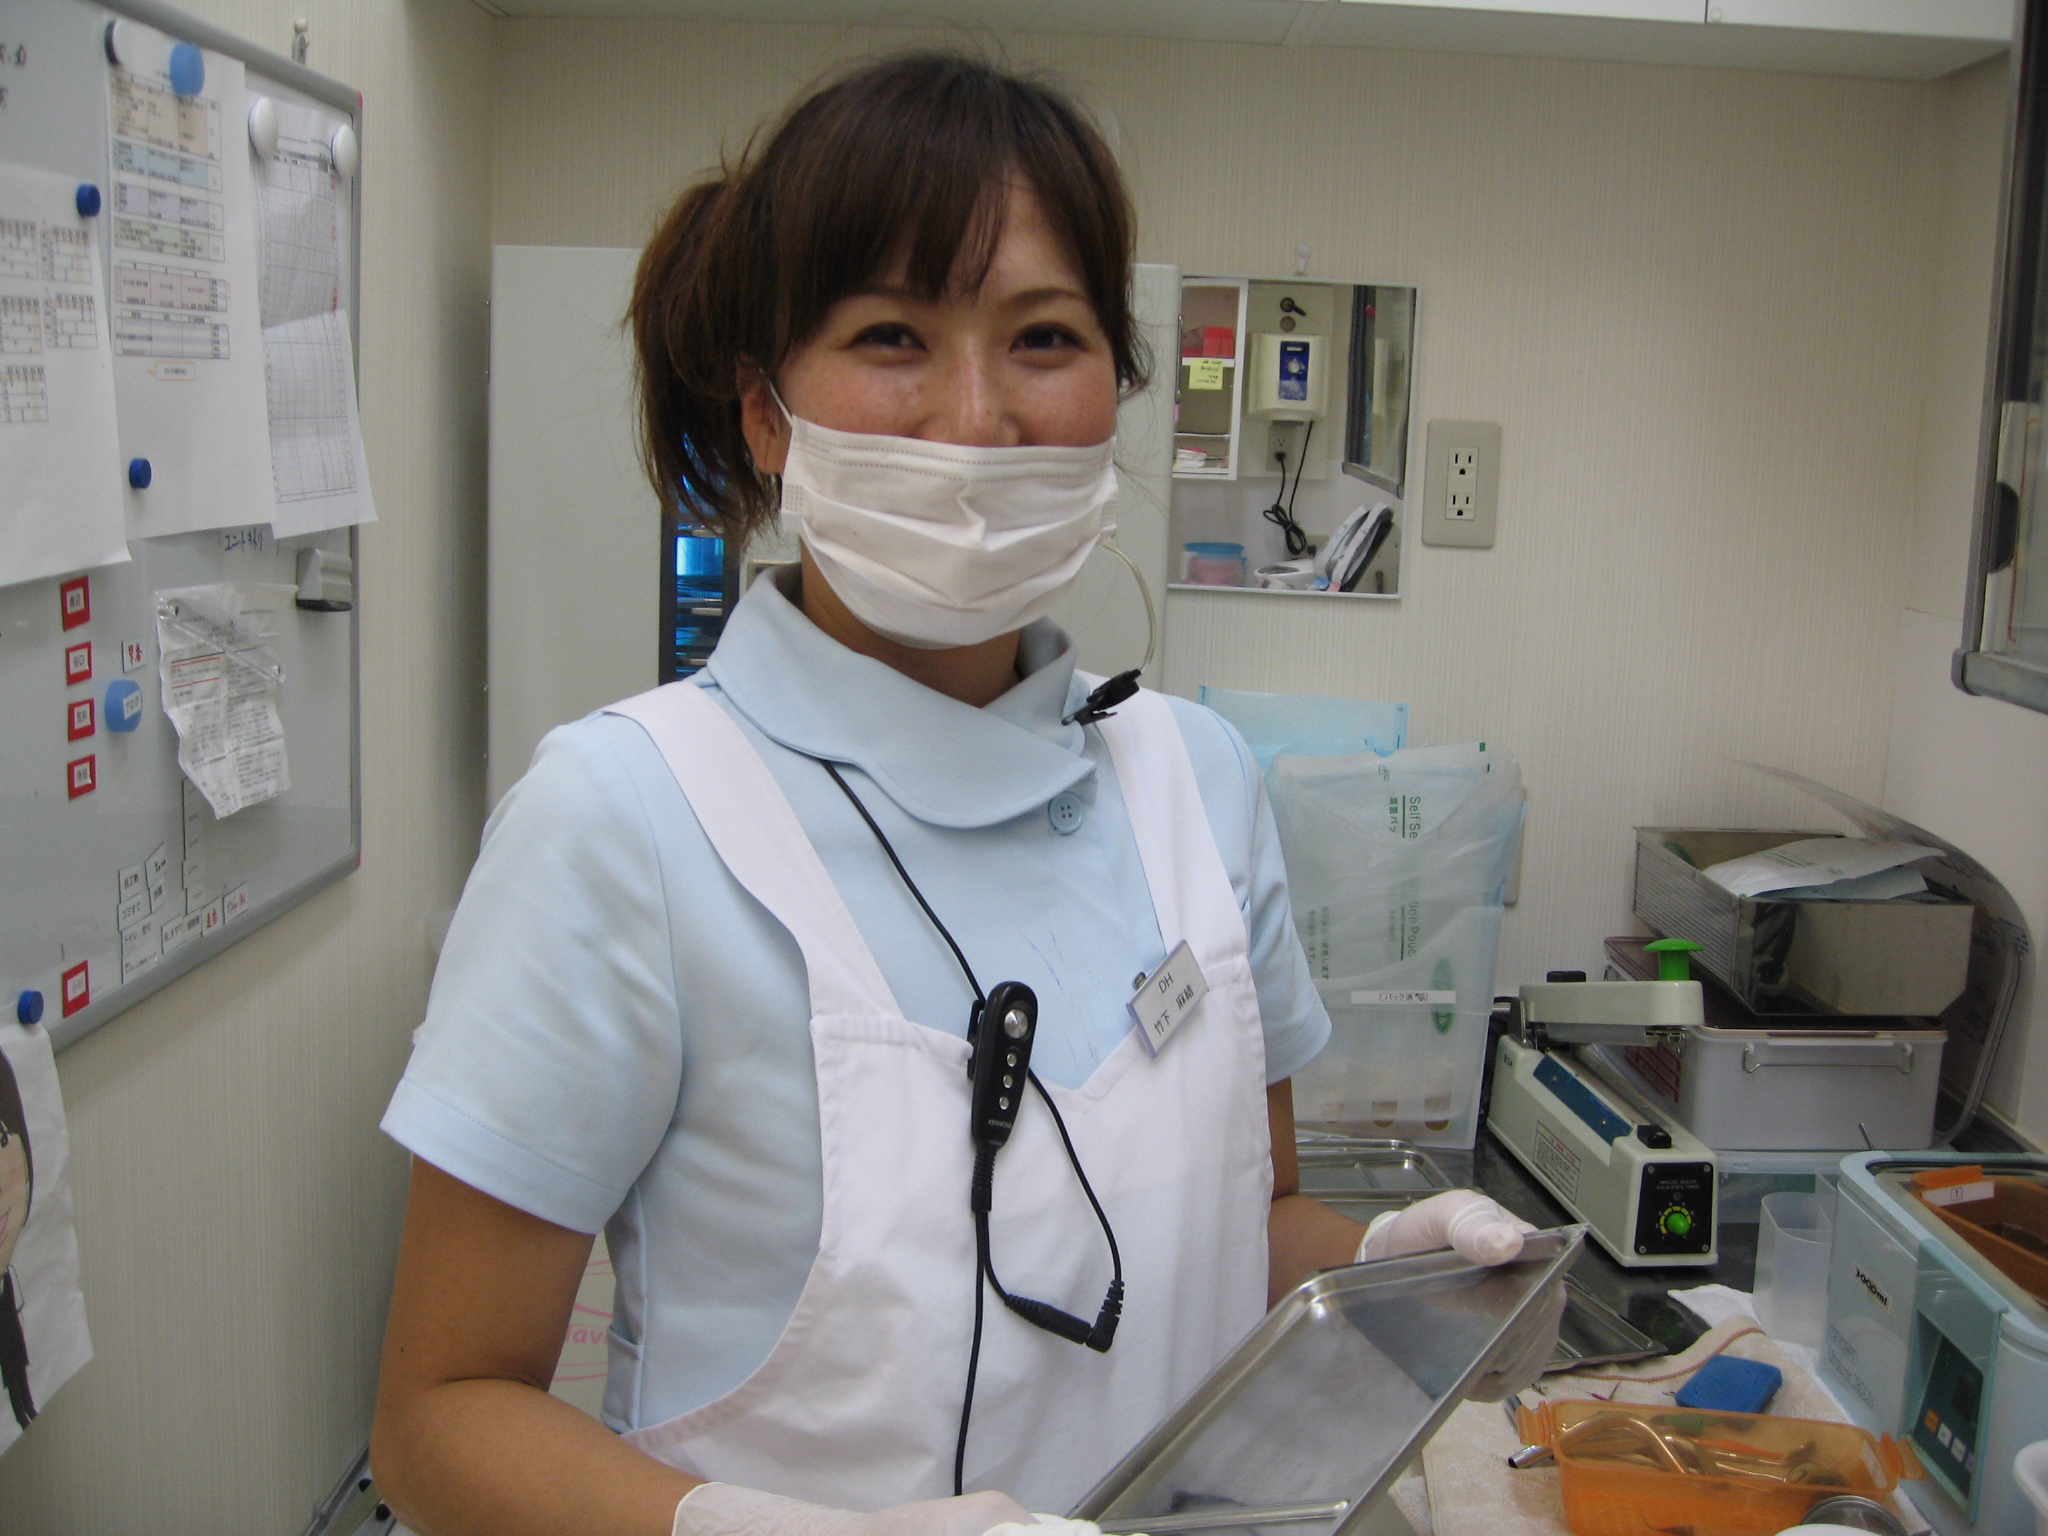mask: (776, 416, 1116, 649)
